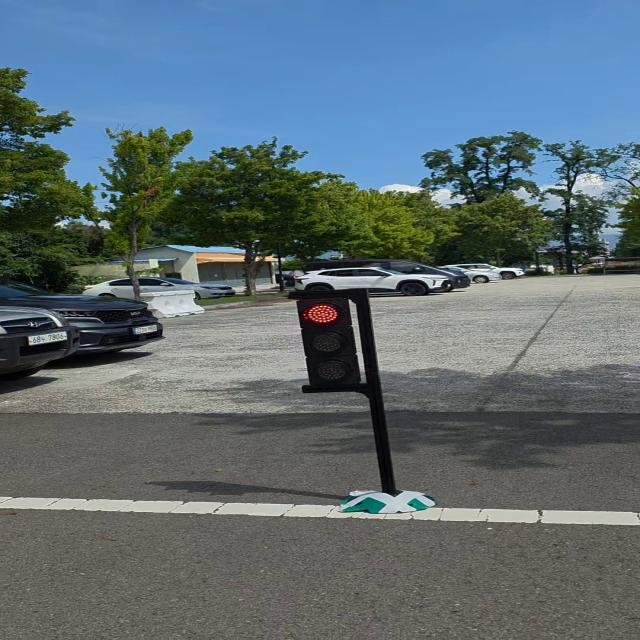red: (280, 289, 382, 395)
